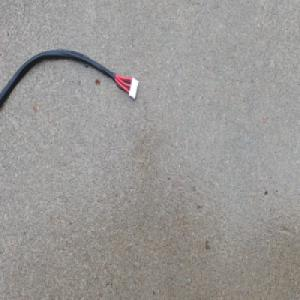Wire: (0, 47, 140, 119)
